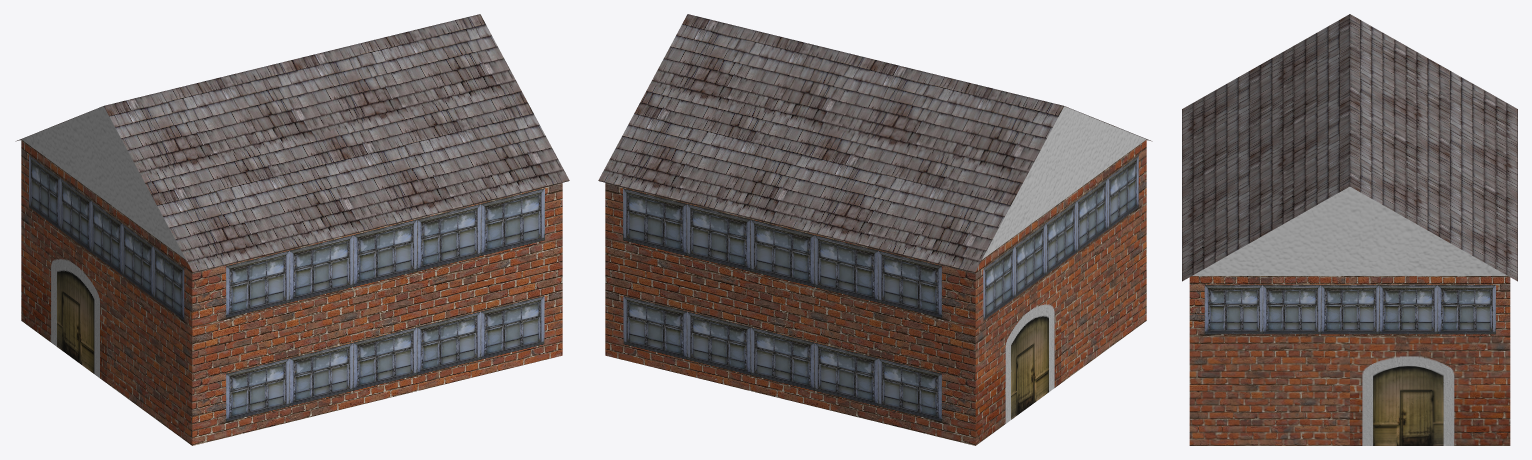
Rendered from Factory_002.dae.
3 views of the same model, side by side, from view 1: azimuth 30°, elevation 25°; view 2: azimuth 150°, elevation 25°; view 3: azimuth 270°, elevation 25° (orthographic). The views are drawn at different scales.
Parts seen in each view (by area): view 1: Factory_002; view 2: Factory_002; view 3: Factory_002.
Boxes of the visible parts, x1,y1,x2,y2 form: Factory_002: (15,14,569,445); Factory_002: (598,14,1152,445); Factory_002: (1182,14,1517,445).
Size of the model in its own units: 122 by 100 by 86.15.
